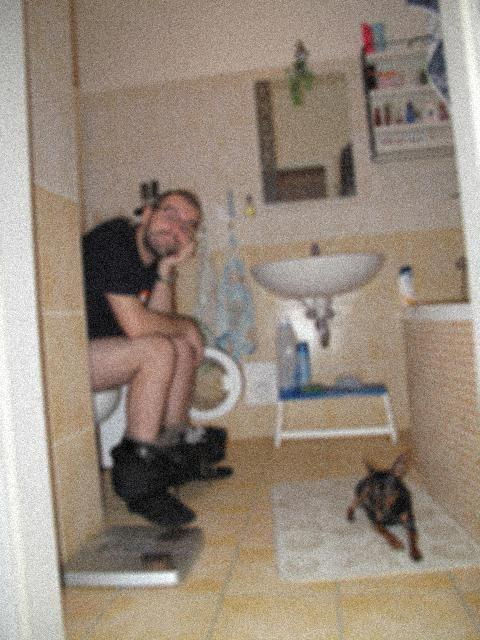Lavamanos: (249, 228, 386, 352)
Otro Obstaculo: (69, 516, 205, 595), (344, 461, 421, 562)
Sanitario: (41, 376, 121, 526)
